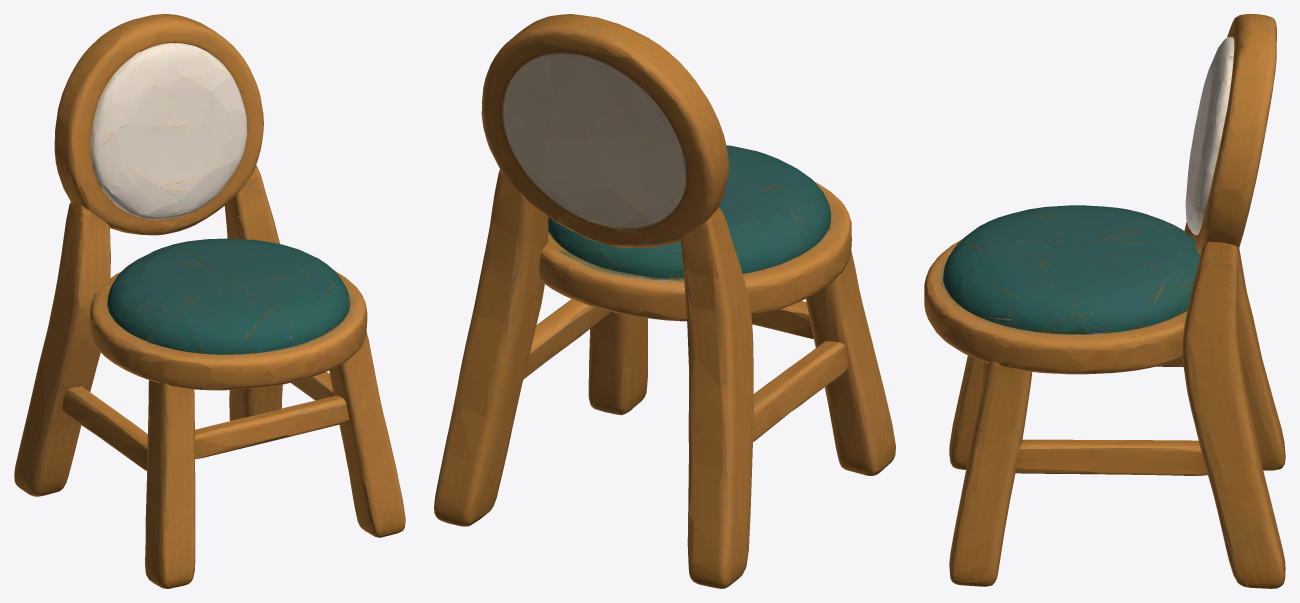
The model's file is banquetChair.glb.
3 renders of one model, left to right at view 1: azimuth 30°, elevation 25°; view 2: azimuth 150°, elevation 25°; view 3: azimuth 270°, elevation 25°, orthographic. The views are drawn at different scales.
Parts seen in each view (by area): view 1: Mesh_0; view 2: Mesh_0; view 3: Mesh_0.
Boxes of the visible parts, <box> form: Mesh_0: <box>14,14,405,588</box>; Mesh_0: <box>434,14,895,588</box>; Mesh_0: <box>924,14,1285,588</box>.
Bounding box in the file's own units: 0.5846 × 1 × 0.6565.
Materials: 1 (1 with a texture image).
